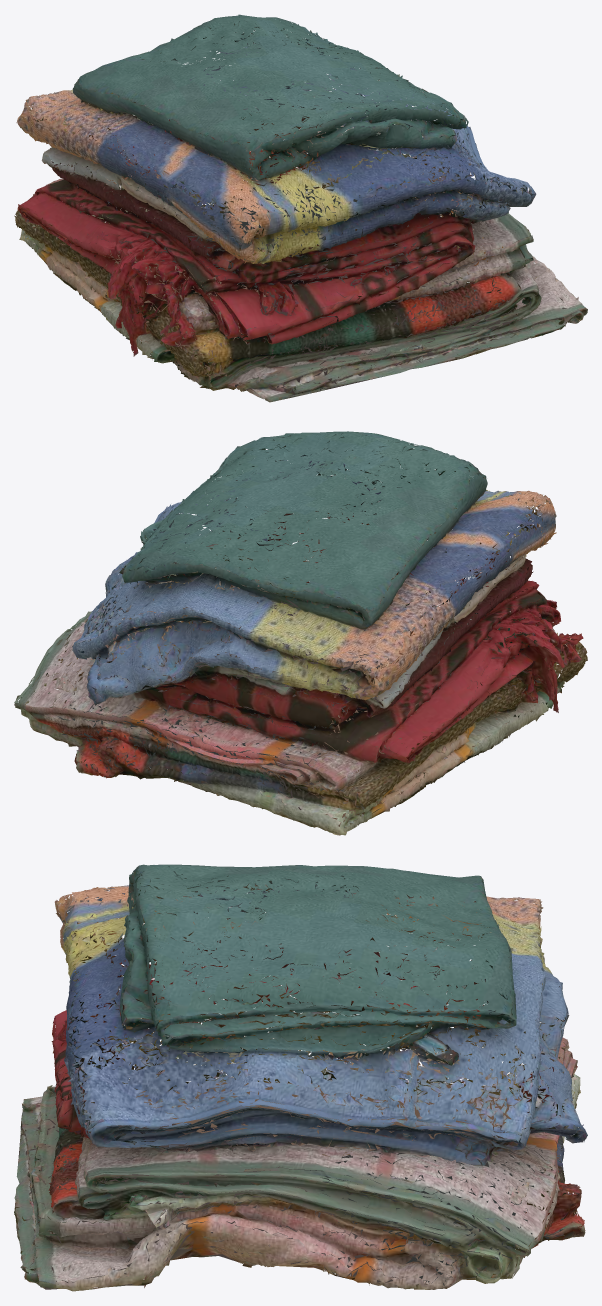
File: towel-stack.glb
3 renders of one model, top to bottom at view 1: azimuth 30°, elevation 25°; view 2: azimuth 150°, elevation 25°; view 3: azimuth 270°, elevation 25°, orthographic. The views are drawn at different scales.
Parts seen in each view (by area): view 1: towel-stack, towel-stack_towel-stack_u1_v1_0.001, towel-stack_towel-stack_u1_v1_0.002, towel-stack_towel-stack_u1_v1_0.003; view 2: towel-stack, towel-stack_towel-stack_u1_v1_0.002, towel-stack_towel-stack_u1_v1_0.003, towel-stack_towel-stack_u1_v1_0.001; view 3: towel-stack_towel-stack_u1_v1_0.001, towel-stack, towel-stack_towel-stack_u1_v1_0.002, towel-stack_towel-stack_u1_v1_0.003.
Part boxes in pixels (bbox=[...]): towel-stack: bbox=[17, 14, 454, 353]; towel-stack_towel-stack_u1_v1_0.001: bbox=[39, 31, 587, 402]; towel-stack_towel-stack_u1_v1_0.002: bbox=[15, 17, 508, 388]; towel-stack_towel-stack_u1_v1_0.003: bbox=[14, 20, 288, 250]; towel-stack: bbox=[14, 431, 565, 762]; towel-stack_towel-stack_u1_v1_0.002: bbox=[14, 431, 580, 831]; towel-stack_towel-stack_u1_v1_0.003: bbox=[80, 557, 389, 835]; towel-stack_towel-stack_u1_v1_0.001: bbox=[21, 434, 587, 823]; towel-stack_towel-stack_u1_v1_0.001: bbox=[14, 866, 564, 1291]; towel-stack: bbox=[60, 864, 587, 1250]; towel-stack_towel-stack_u1_v1_0.002: bbox=[15, 869, 585, 1289]; towel-stack_towel-stack_u1_v1_0.003: bbox=[495, 899, 584, 1239].
Bounding box in the file's own units: 0.4185 × 0.219 × 0.4191.
Materials: 1 (1 with a texture image).
